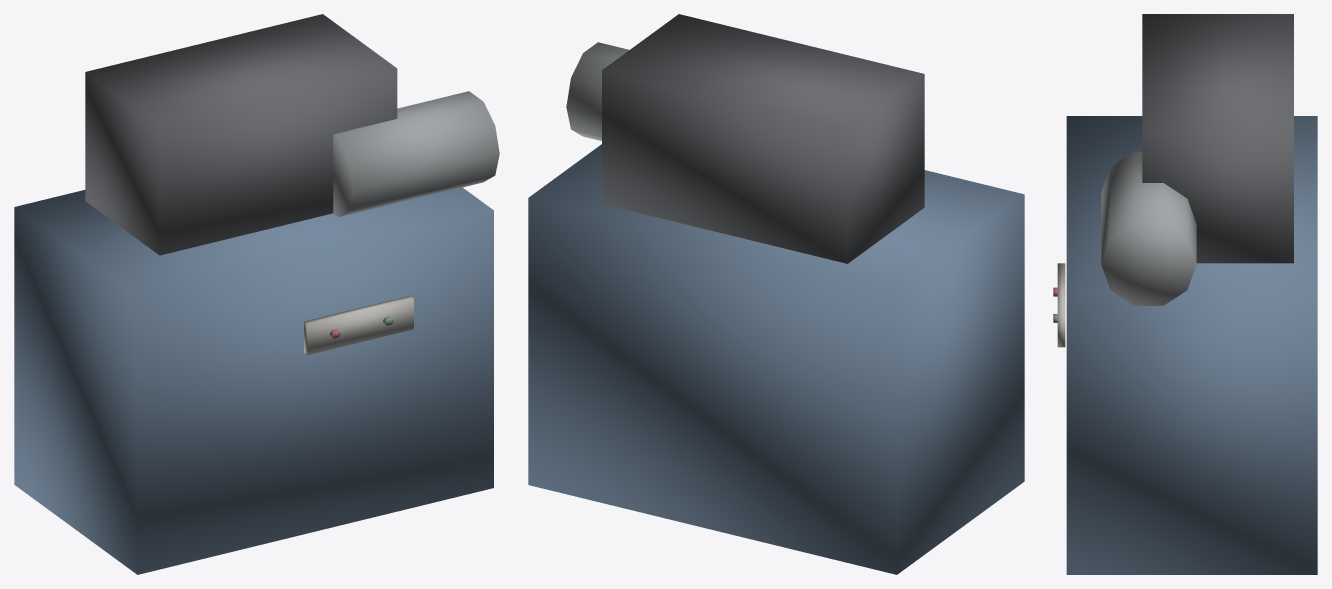
Rendered from rolling_tool_chest__wide.glb.
The picture shows the model from 3 angles, left to right: view 1: azimuth 30°, elevation 25°; view 2: azimuth 150°, elevation 25°; view 3: azimuth 270°, elevation 25°; orthographic projection. The views are drawn at different scales.
Visible parts, largest first — view 1: world; view 2: world; view 3: world.
Boxes of the visible parts, x1=… form: world: x1=14, y1=14, x2=499, y2=574; world: x1=528, y1=14, x2=1024, y2=574; world: x1=1053, y1=14, x2=1317, y2=574.
Bounding box in the file's own units: 1.03 × 1.05 × 0.611.
